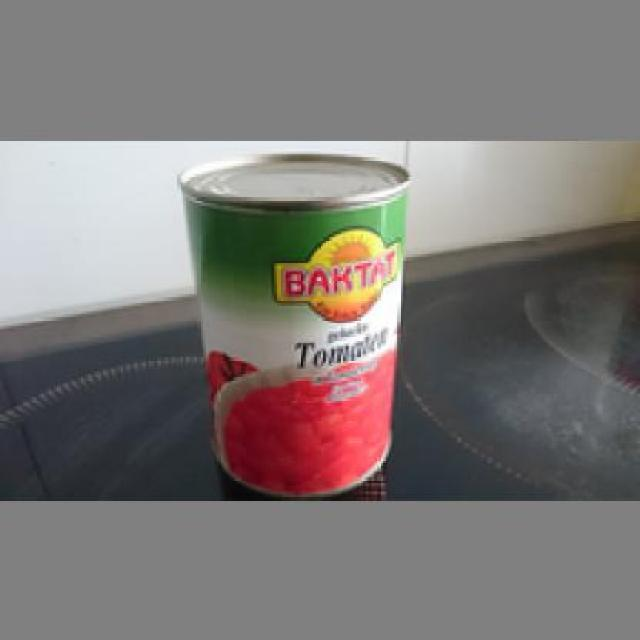Tomato Sauce: (173, 148, 410, 494)
